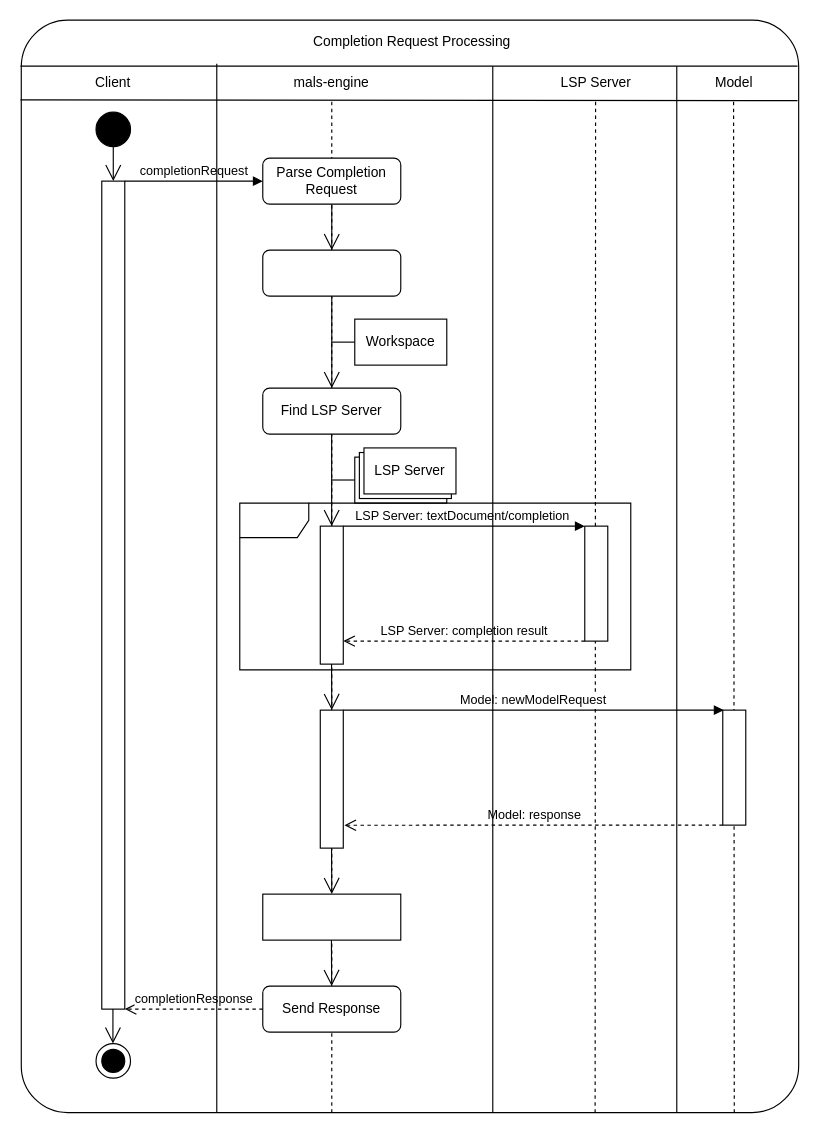
Some shapes in this 819 by 1134 pixel diagram are drawn without their labels. Each missing label, with the centre of its shape:
Completion Response: [331,916]
Find Workspace: [331,272]
par, loop: [435,586]
